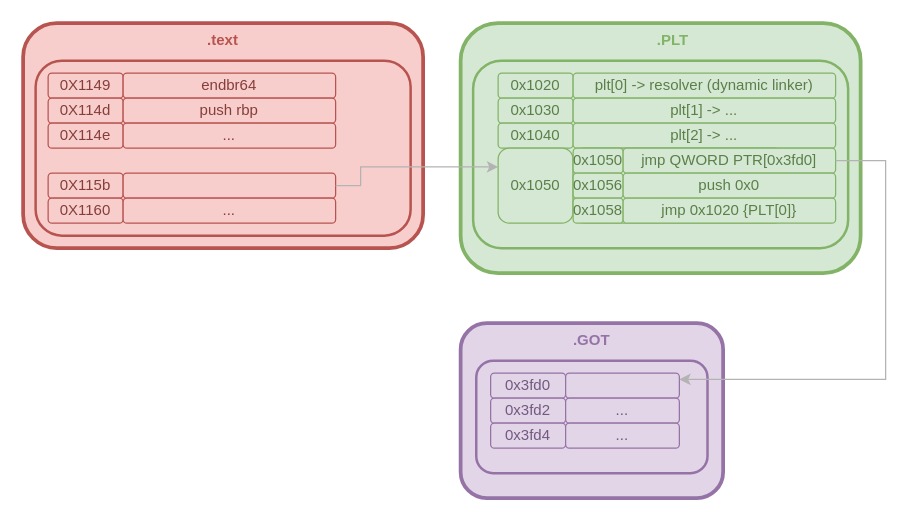
Image size: 918x521. Some labels were removed from this diagram. The shapes that lost their labels are listed below. From the top down, each one's centre as x and y in pixels, then its label:
At (229,185): "call 0x1050 <puts@plt>".
At (621,385): "0x7ffff7c87cc0".
